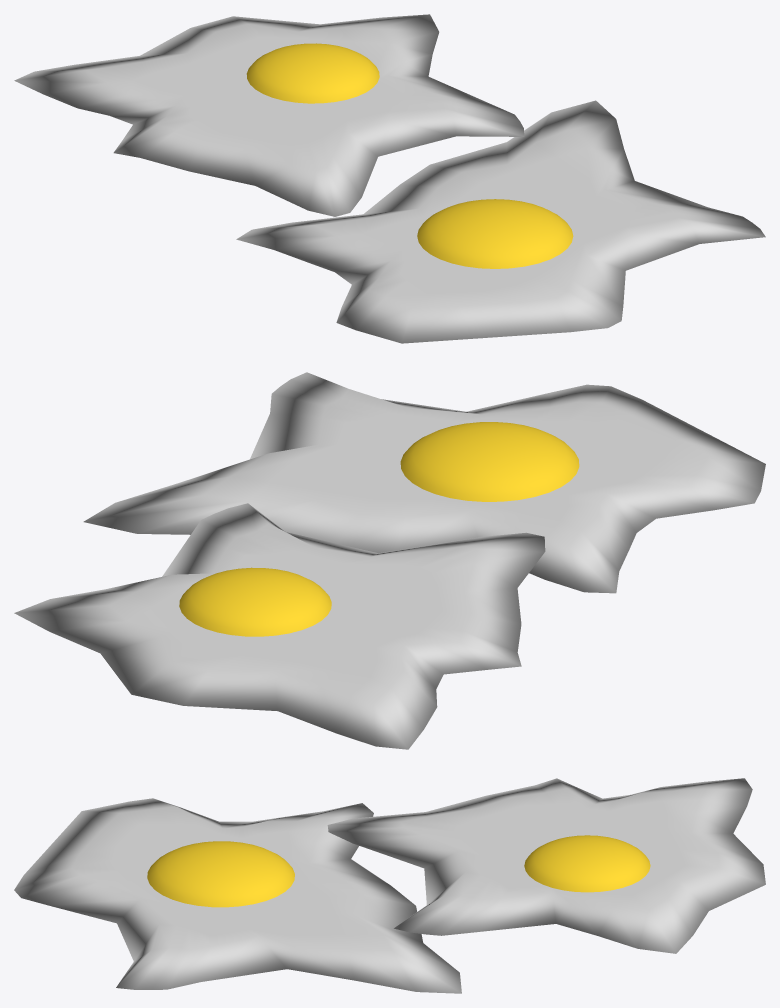
Rendered from egg.glb.
3 views of the same model, one above another, from view 1: azimuth 30°, elevation 25°; view 2: azimuth 150°, elevation 25°; view 3: azimuth 270°, elevation 25° (orthographic). The views are drawn at different scales.
Parts seen in each view (by area): view 1: Plane.008, Plane.009, Sphere.014, Sphere.013; view 2: Plane.008, Plane.009, Sphere.014, Sphere.013; view 3: Plane.008, Plane.009, Sphere.014, Sphere.013.
Boxes of the visible parts, x1=… form: Plane.008: x1=236, y1=100, x2=765, y2=343; Plane.009: x1=14, y1=14, x2=524, y2=216; Sphere.014: x1=417, y1=199, x2=573, y2=268; Sphere.013: x1=246, y1=43, x2=379, y2=103; Plane.008: x1=83, y1=372, x2=765, y2=593; Plane.009: x1=14, y1=503, x2=545, y2=749; Sphere.014: x1=400, y1=422, x2=579, y2=501; Sphere.013: x1=179, y1=567, x2=331, y2=636; Plane.008: x1=14, y1=798, x2=461, y2=993; Plane.009: x1=327, y1=778, x2=765, y2=953; Sphere.014: x1=147, y1=841, x2=294, y2=907; Sphere.013: x1=524, y1=835, x2=650, y2=892.
Size of the model in its own units: 0.1913 by 0.0201 by 0.3036.
